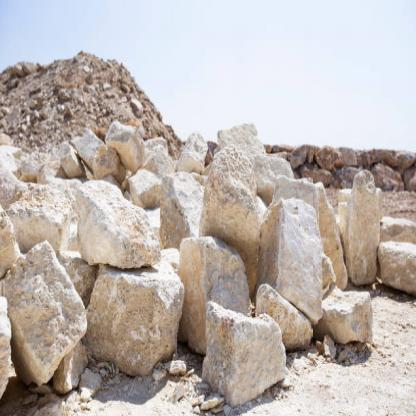Sedimentary_Limestone: (4, 231, 86, 387), (85, 263, 184, 376), (176, 238, 257, 363), (201, 292, 290, 402), (259, 193, 328, 325), (69, 178, 163, 272), (335, 165, 379, 297), (315, 283, 376, 352)
